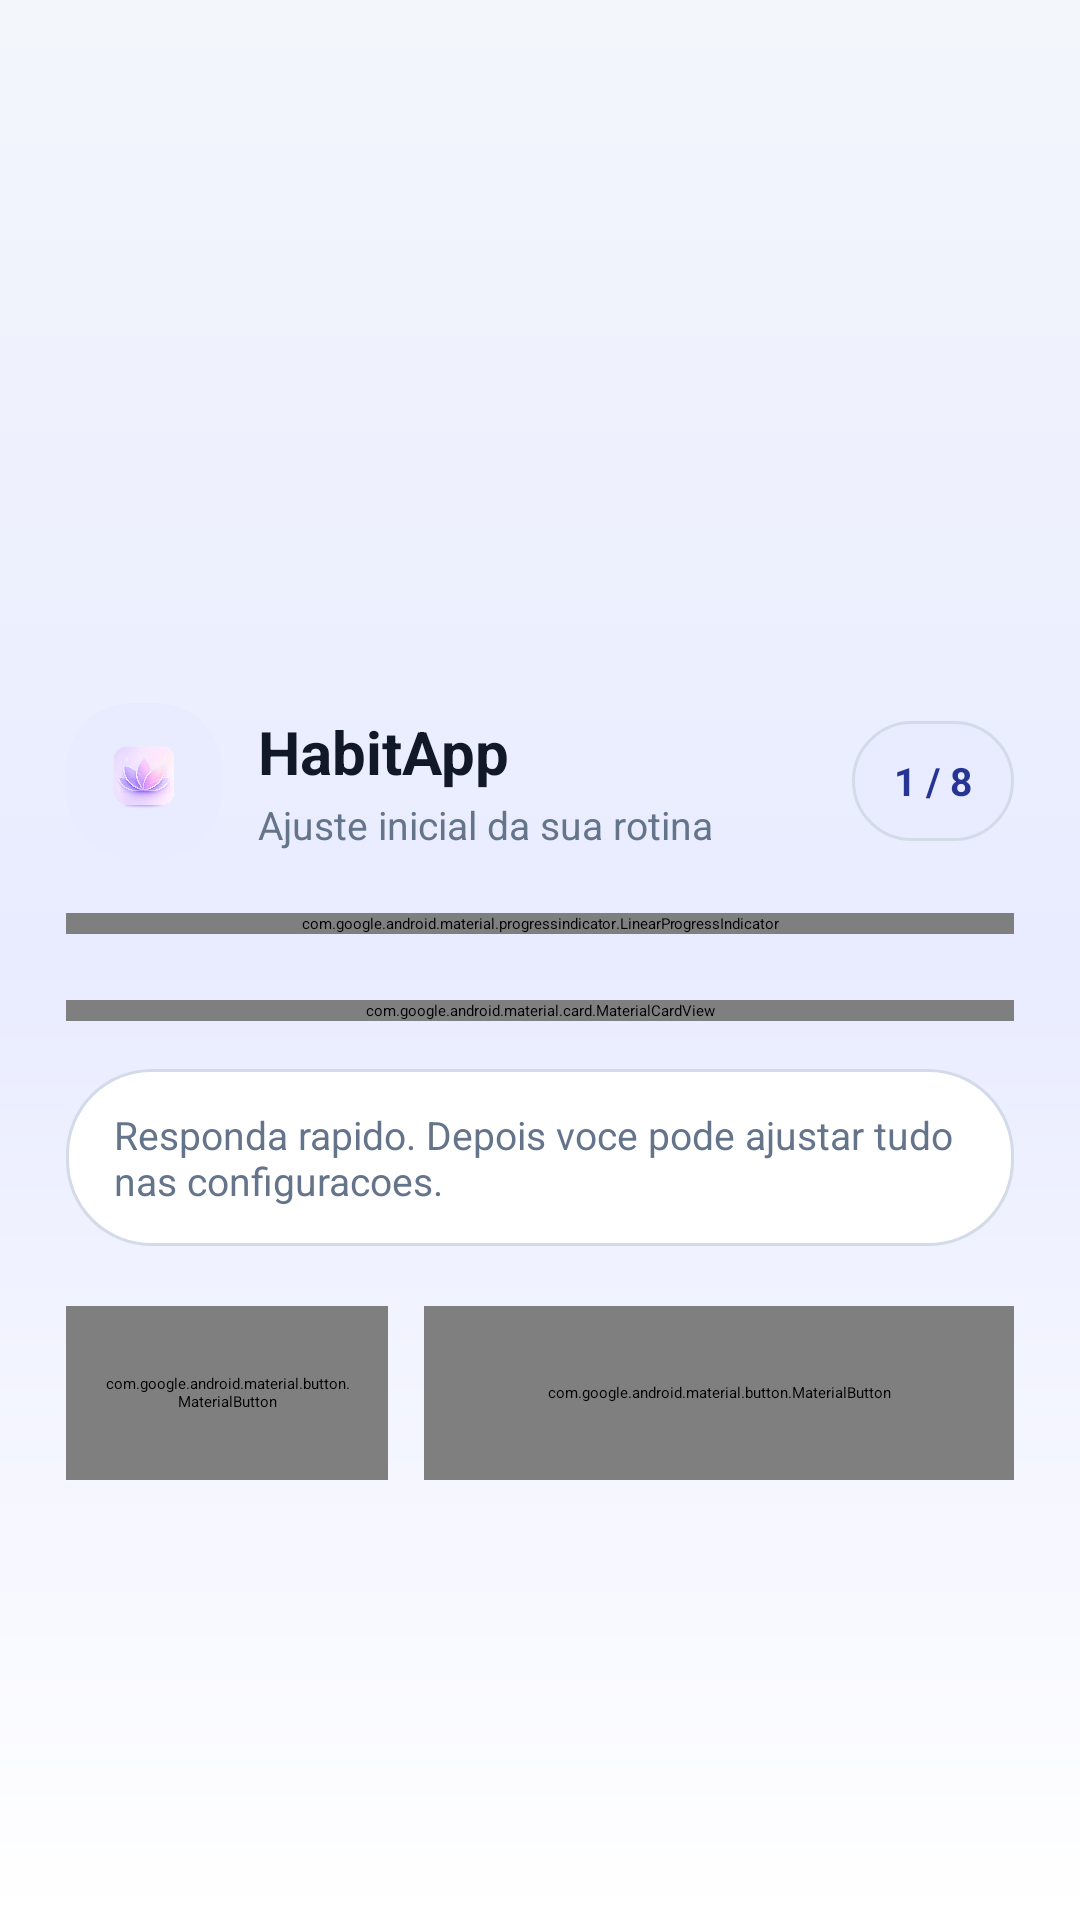

Icons on this 1080px×1920px Android screen, each with its box as (x1=x1, y1=y1, x2=x2, y2=y2):
app: (x1=114, y1=746, x2=174, y2=808)
